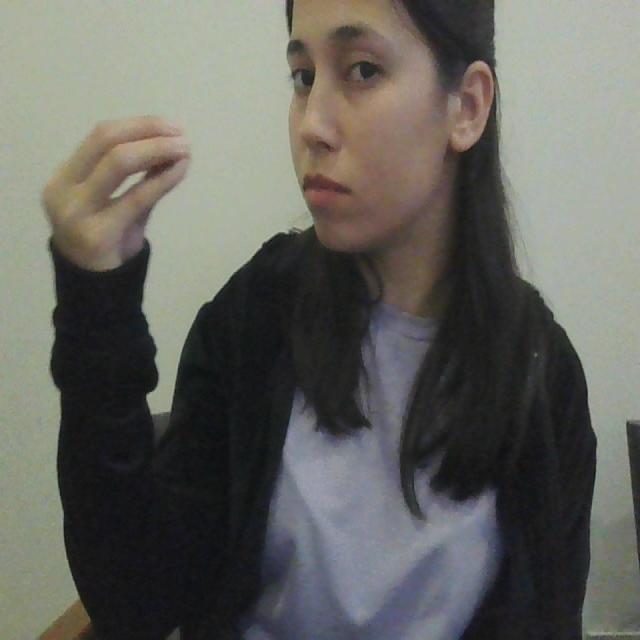Yemek: (46, 115, 349, 207)
